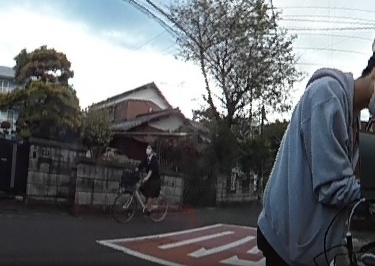person: (263, 44, 375, 266), (135, 141, 164, 207)
